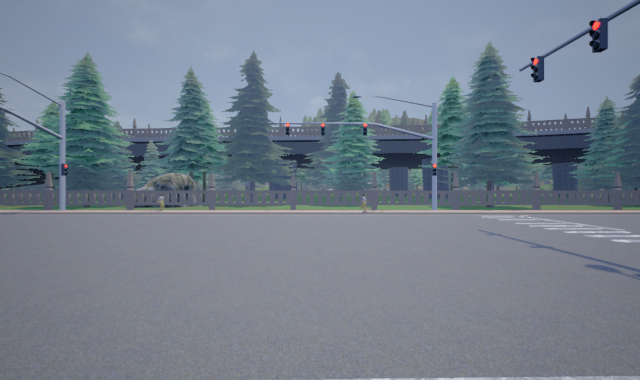pedestrian: (154, 191, 169, 211), (358, 191, 370, 212)
traffic_light: (586, 18, 609, 54), (531, 54, 544, 83), (62, 162, 69, 176), (431, 162, 438, 176), (362, 121, 368, 137), (285, 121, 291, 135), (320, 122, 326, 136)
